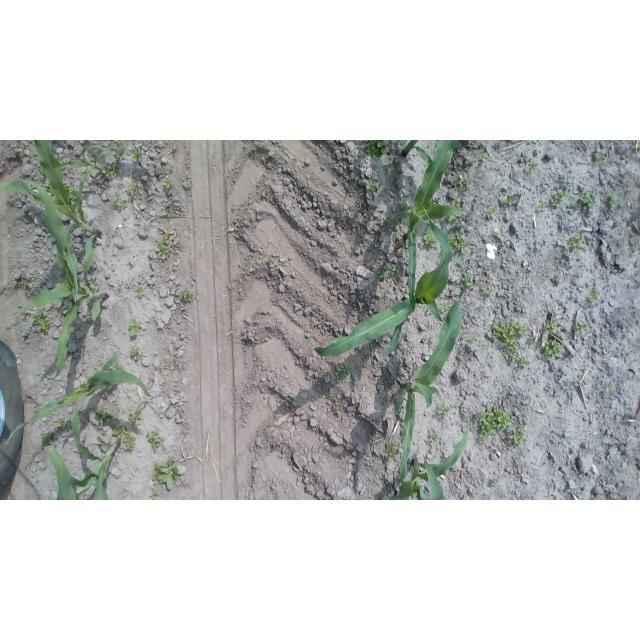Maize: (310, 200, 454, 358), (0, 178, 108, 379), (391, 256, 467, 492), (1, 140, 104, 276), (6, 355, 151, 444), (403, 141, 466, 316), (388, 417, 472, 500), (63, 402, 120, 500), (56, 140, 117, 210), (46, 445, 77, 500), (396, 140, 432, 166)
Weeds: (491, 320, 534, 368), (475, 404, 513, 443), (151, 455, 181, 491), (364, 140, 408, 160), (112, 423, 136, 453), (384, 204, 411, 229), (448, 230, 469, 255), (94, 405, 121, 423), (31, 309, 51, 333), (541, 339, 565, 359), (146, 428, 165, 453), (423, 225, 440, 250), (376, 264, 401, 281), (577, 192, 596, 213), (333, 363, 351, 385), (452, 173, 470, 192), (552, 189, 569, 208), (569, 234, 586, 253), (386, 439, 400, 461), (112, 193, 129, 211), (545, 318, 563, 335), (509, 427, 527, 444), (127, 407, 142, 427), (40, 431, 57, 448), (101, 164, 119, 180), (129, 347, 148, 362), (156, 244, 173, 260), (69, 187, 84, 205), (437, 299, 455, 313), (608, 192, 621, 211), (115, 140, 127, 160), (179, 288, 194, 304), (55, 295, 73, 308), (127, 319, 140, 337), (366, 180, 380, 196), (159, 228, 173, 244), (108, 357, 124, 371), (484, 205, 498, 220), (573, 320, 588, 334), (438, 402, 451, 418), (128, 180, 140, 196), (587, 292, 601, 305), (595, 152, 608, 165), (450, 198, 463, 210), (428, 433, 440, 446), (133, 148, 144, 162), (504, 196, 516, 207), (536, 202, 548, 213), (134, 286, 146, 297), (149, 487, 159, 500), (462, 276, 472, 289), (163, 208, 177, 217), (528, 160, 538, 172), (484, 287, 496, 297), (162, 178, 172, 189), (16, 144, 25, 156), (55, 420, 67, 429), (21, 278, 29, 291), (480, 153, 489, 164), (606, 384, 617, 393), (265, 256, 276, 265), (338, 211, 348, 220), (573, 380, 582, 389), (332, 405, 341, 414), (467, 337, 478, 344), (20, 312, 28, 321), (492, 478, 500, 487), (447, 214, 455, 222), (96, 187, 104, 195), (248, 342, 257, 349), (35, 166, 43, 173), (388, 167, 394, 176), (79, 276, 85, 284), (290, 461, 297, 467), (45, 180, 51, 187), (328, 391, 333, 399), (367, 427, 373, 433), (496, 140, 504, 144), (499, 164, 505, 169), (144, 223, 149, 229), (610, 244, 615, 249), (96, 240, 101, 245), (116, 285, 121, 290), (638, 238, 640, 248), (481, 200, 485, 205), (417, 304, 422, 308), (88, 280, 92, 284)
